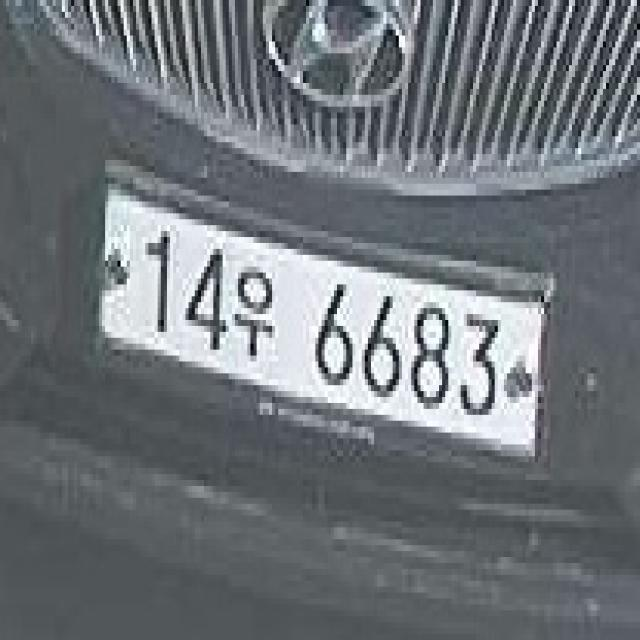1: (139, 208, 179, 350)
3: (454, 302, 504, 433)
4: (182, 231, 232, 368)
6: (309, 273, 359, 403), (356, 284, 405, 409)
8: (405, 284, 455, 426)
license_plate: (93, 148, 553, 486)
u: (229, 255, 281, 367)
